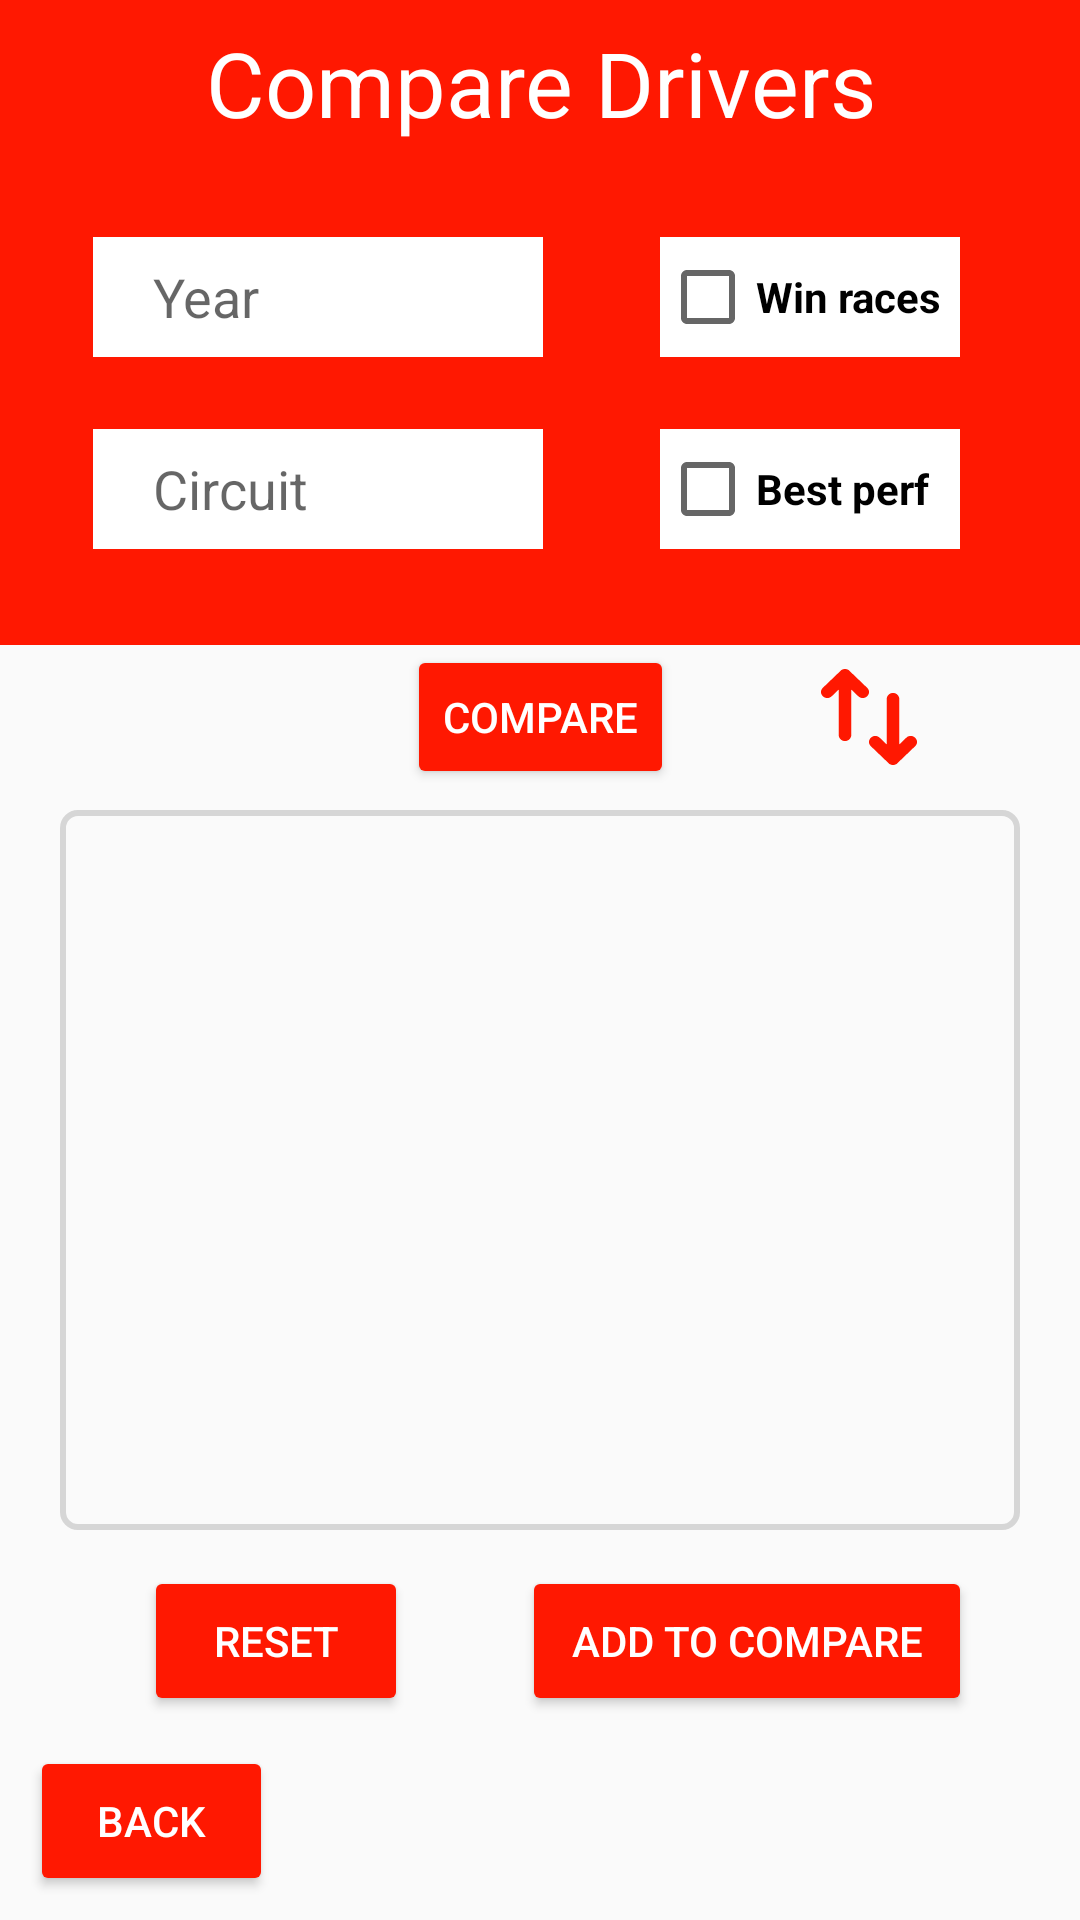

Named icons in this screenshot (1080x1920) and their bounding boxes, region(x1, y1, x2, y2):
up down arrow: region(821, 669, 917, 765)
